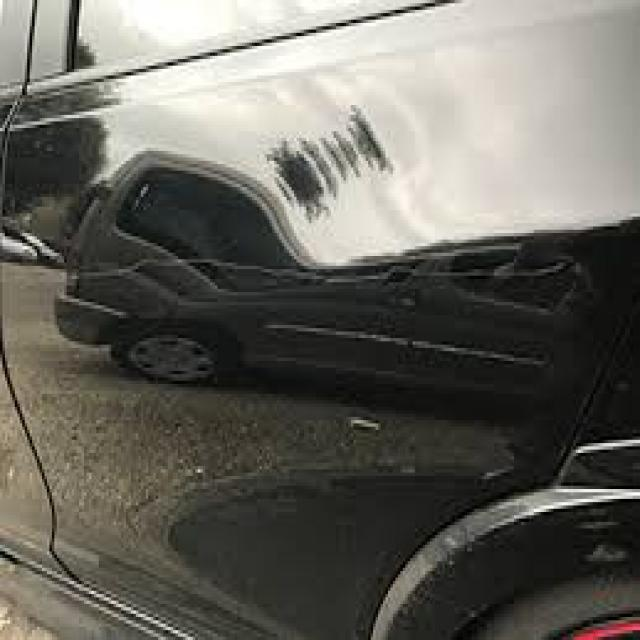dent-or-scratch: (252, 71, 462, 266)
